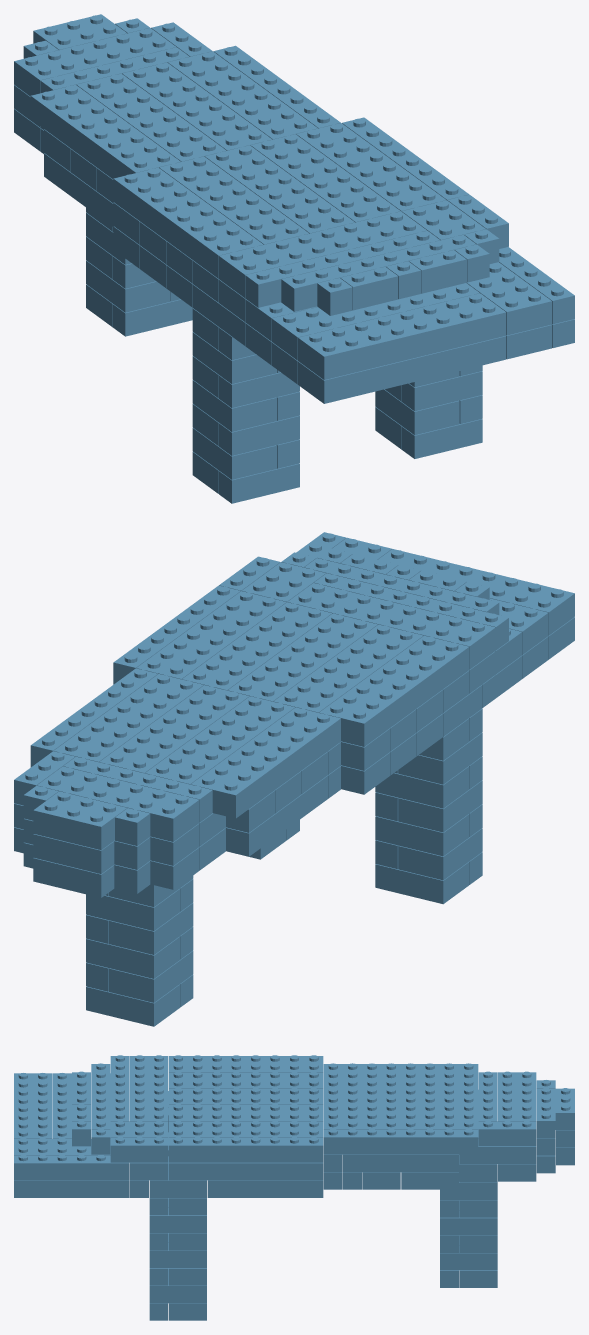
Rendered from collab_piano-L3V1_raw.glb.
3 views of the same model, one above another, from view 1: azimuth 30°, elevation 25°; view 2: azimuth 150°, elevation 25°; view 3: azimuth 270°, elevation 25° (orthographic). The views are drawn at different scales.
Bounding box in the file's own units: 10.98 × 10.13 × 28.98.
